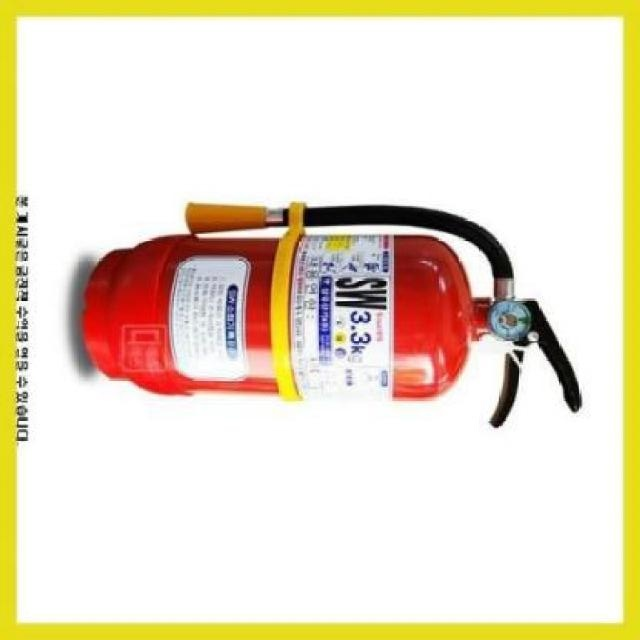fire extinguisher: (81, 200, 582, 431)
